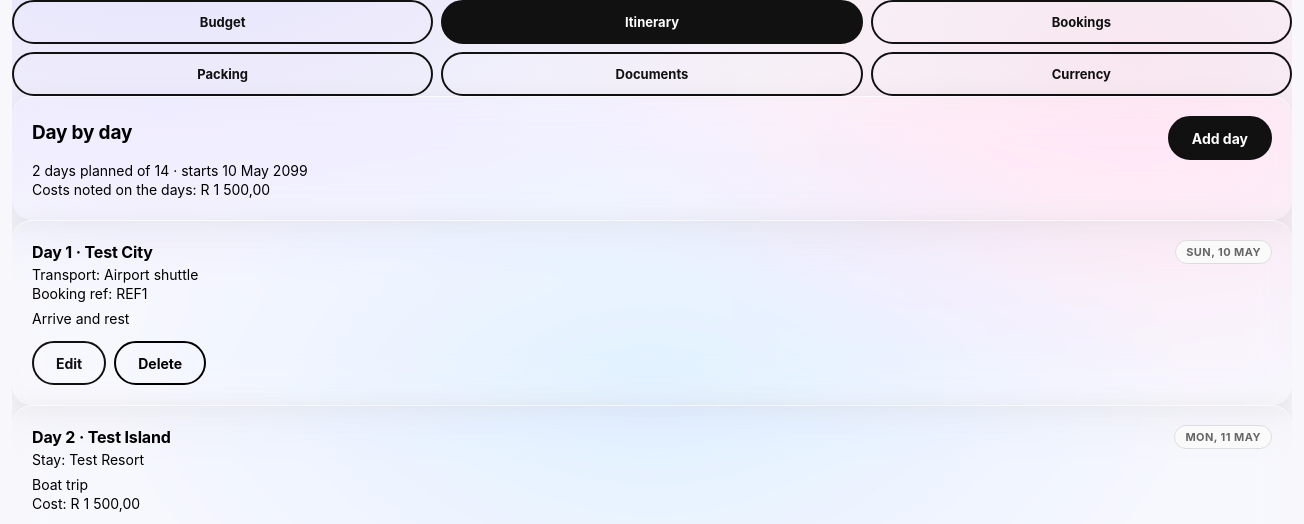
Test case: itinerary › a duplicate day number or a bad date is explained and nothing is saved
Click the button "Add day": [1220, 138] box [1168,116,1272,160]
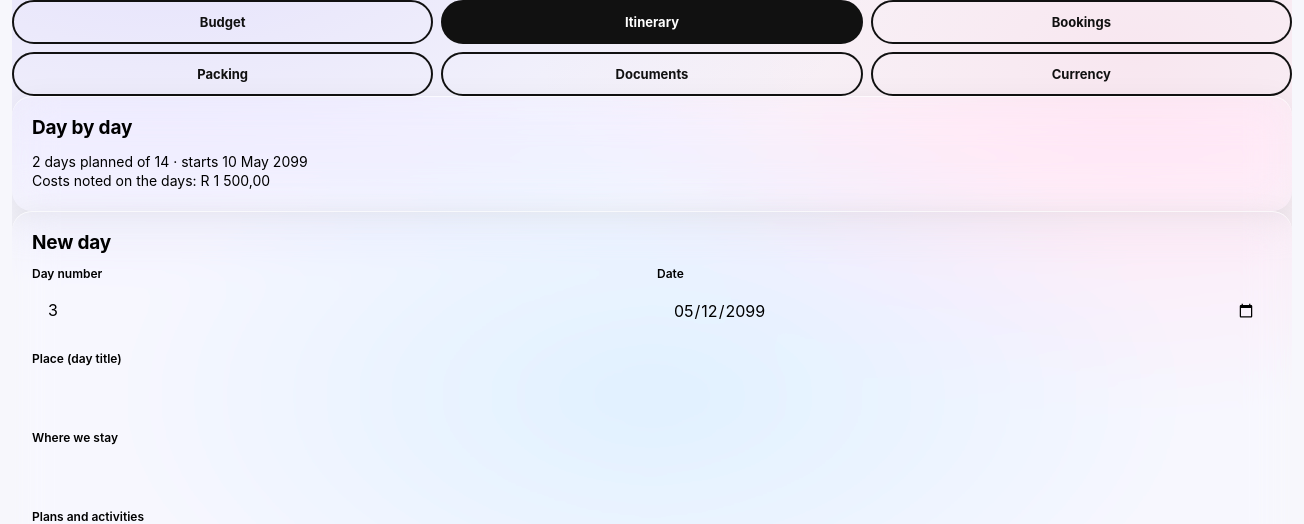
Replace the text in the field labelled "Day number" with "2": [340, 310] box [32,287,647,333]
(page scrolled)
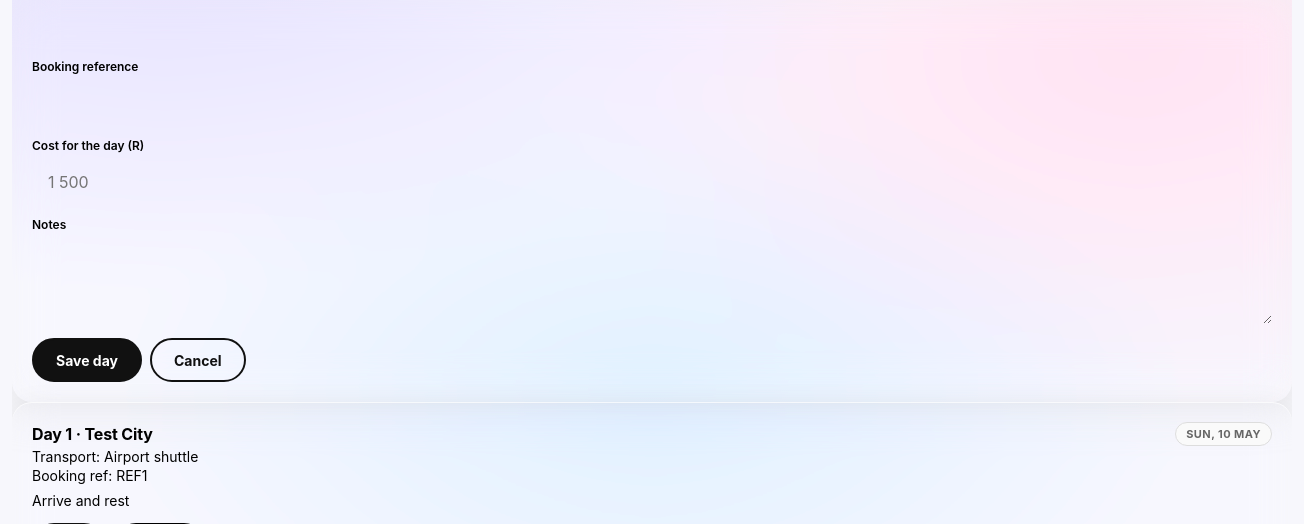
Click the button "Save day": [87, 360] box [32,338,142,382]
(page scrolled)
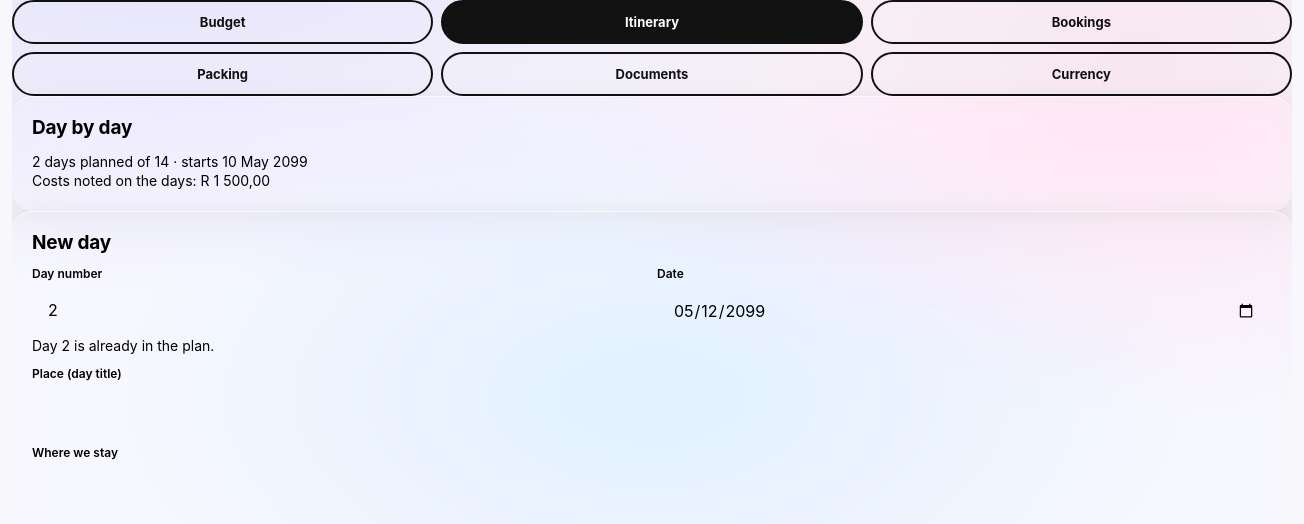
Expected: the text "Day 2 is already in the plan." is shown, [32,337,214,354]
Replace the text in the field labelled "Day number" with "99": [340, 310] box [32,287,647,333]
(page scrolled)
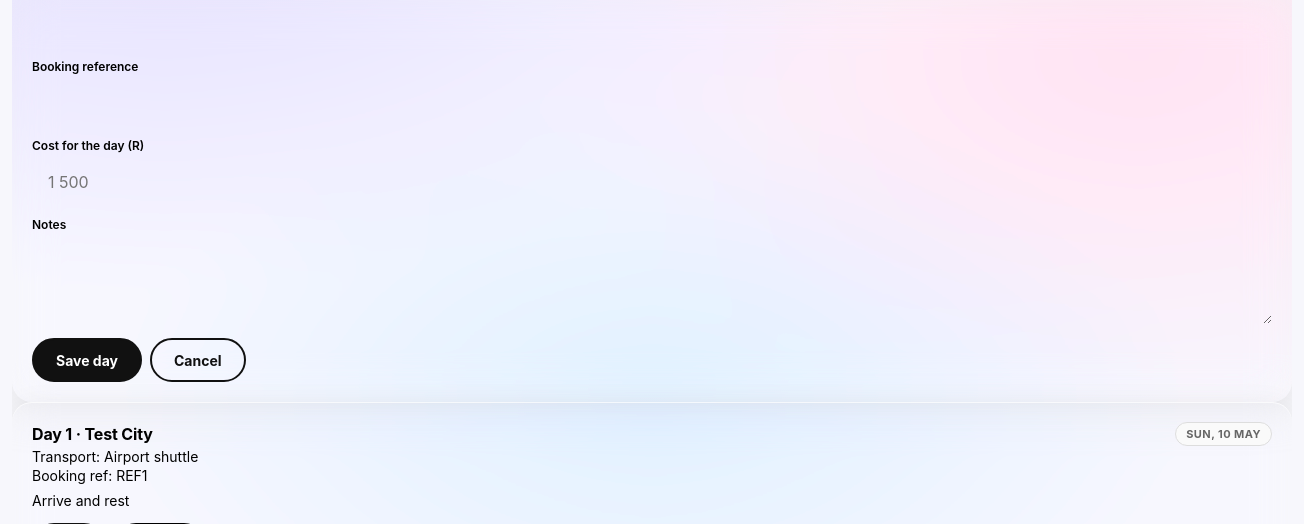
Click the button "Save day": [87, 360] box [32,338,142,382]
(page scrolled)
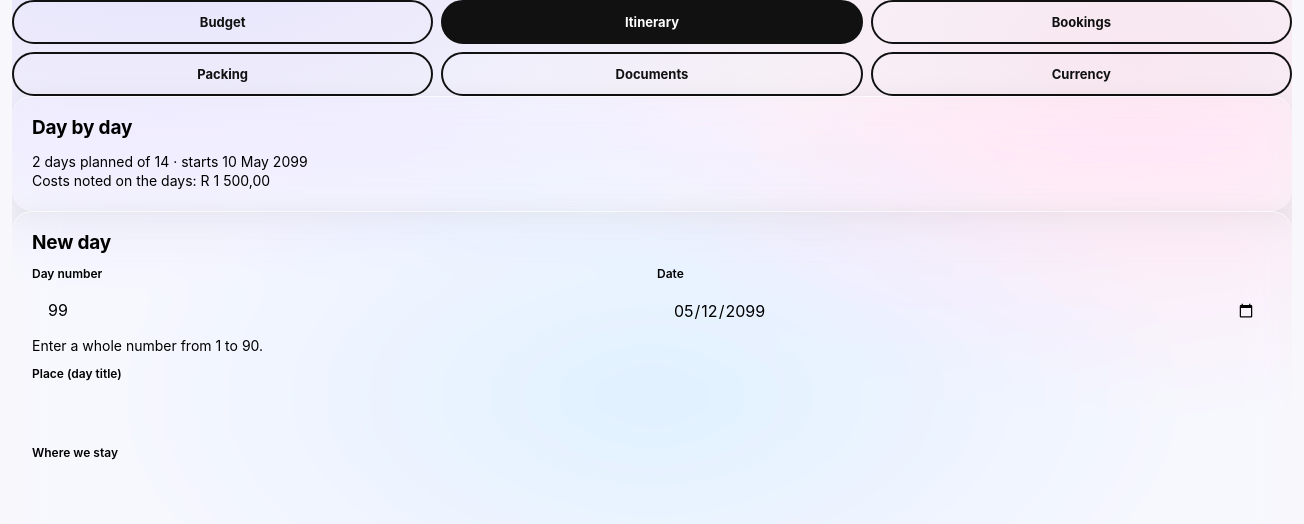
Expected: the text "Enter a whole number from 1 to 90." is shown, [32,337,263,354]
